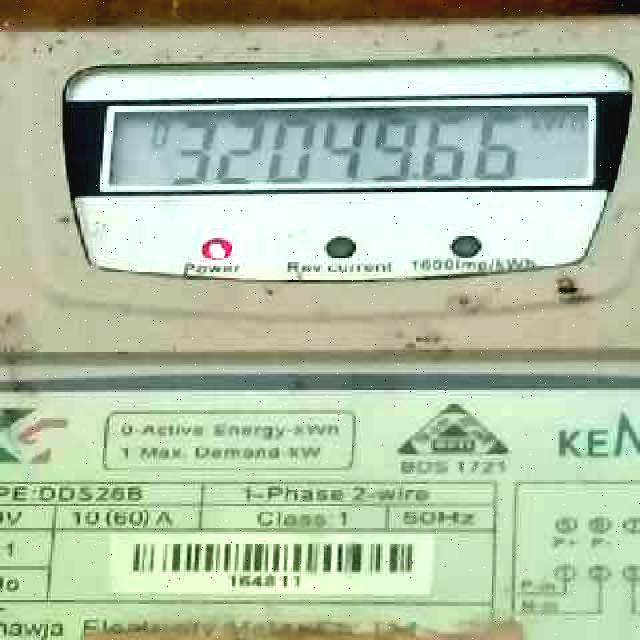LCD: (103, 104, 609, 197)
